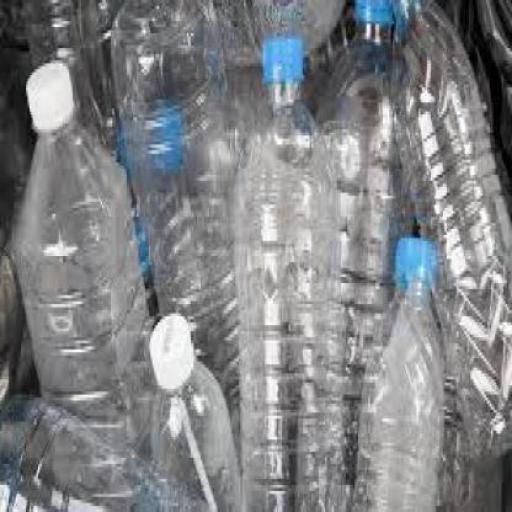plastic: (2, 0, 511, 510), (15, 54, 152, 510), (112, 0, 238, 468), (390, 0, 511, 463), (238, 27, 350, 510), (318, 0, 417, 510), (24, 0, 162, 326), (356, 232, 469, 509), (2, 388, 208, 509), (152, 310, 241, 510), (454, 0, 510, 215), (436, 349, 503, 509), (223, 0, 347, 60), (2, 73, 34, 268), (2, 247, 40, 394), (1, 0, 36, 156), (153, 310, 197, 392), (28, 58, 78, 129), (140, 102, 184, 163), (396, 229, 441, 285), (264, 30, 306, 82), (356, 0, 398, 25)
